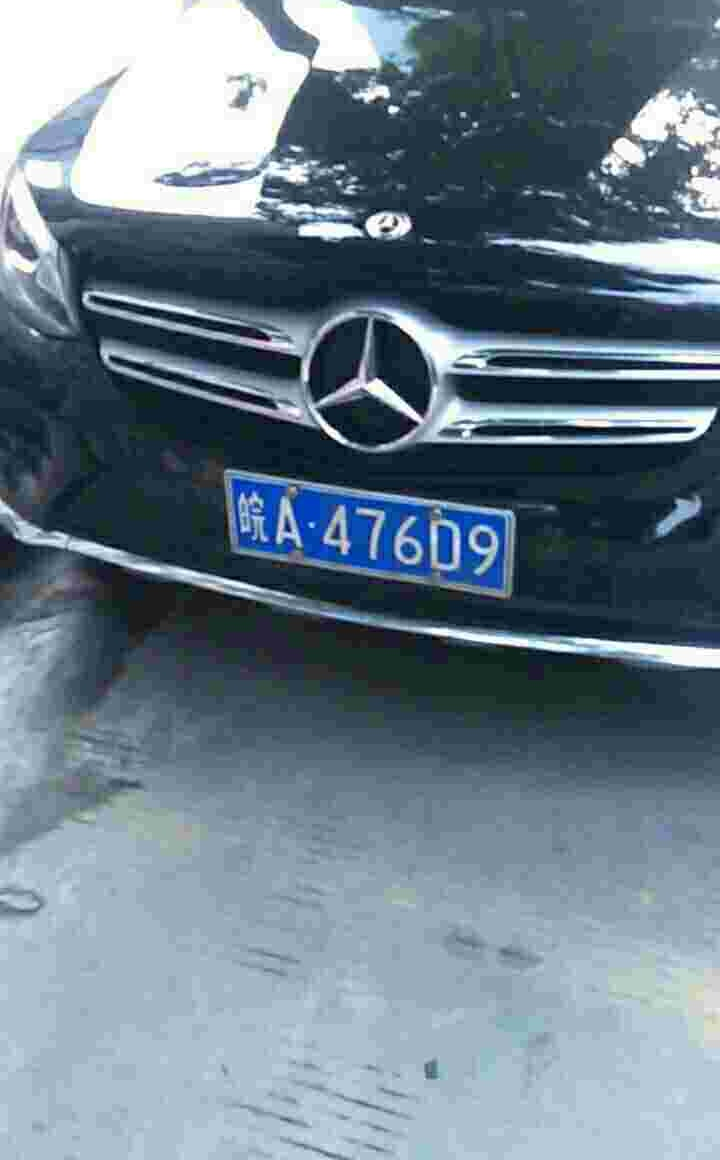license_plate: (226, 471, 512, 600)
